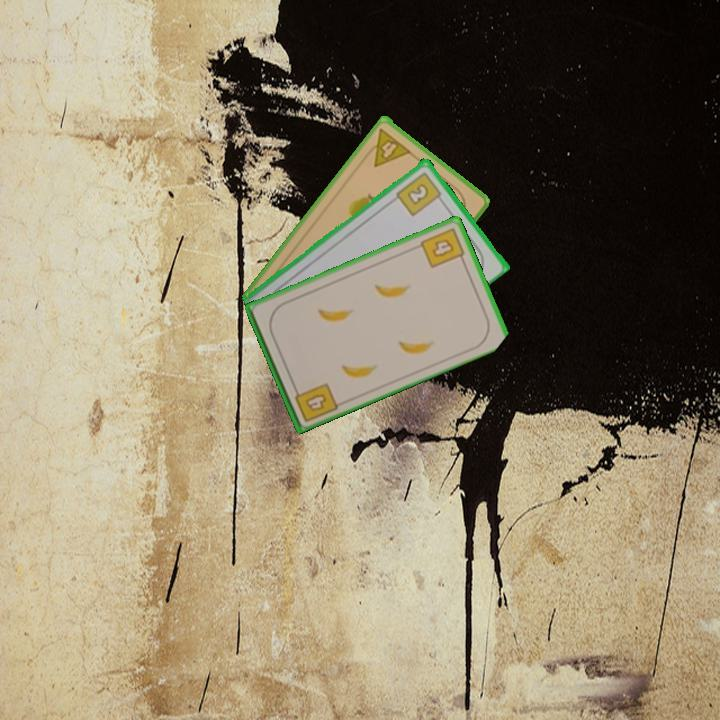2b: (393, 168, 445, 218)
4b: (417, 224, 468, 271), (290, 379, 340, 425)
4p: (360, 124, 414, 169)
